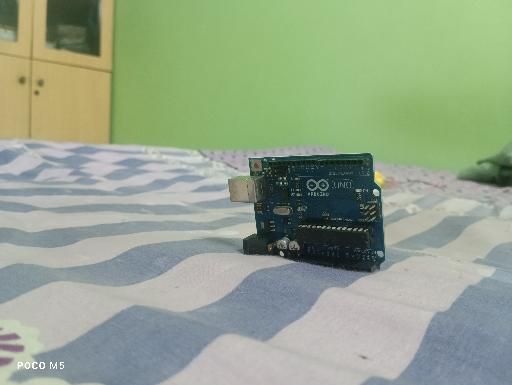Arduino: (228, 153, 386, 274)
